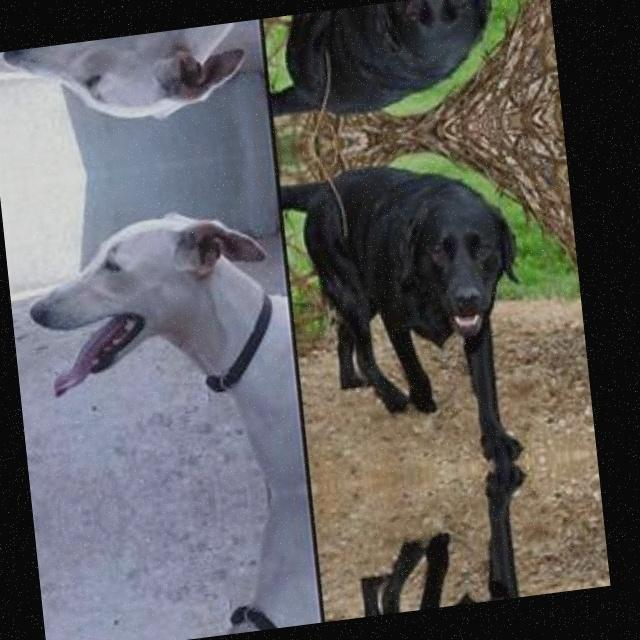dog: (287, 134, 553, 456), (15, 188, 302, 482), (0, 20, 267, 148), (272, 0, 520, 135), (324, 491, 570, 621), (49, 531, 320, 640)
